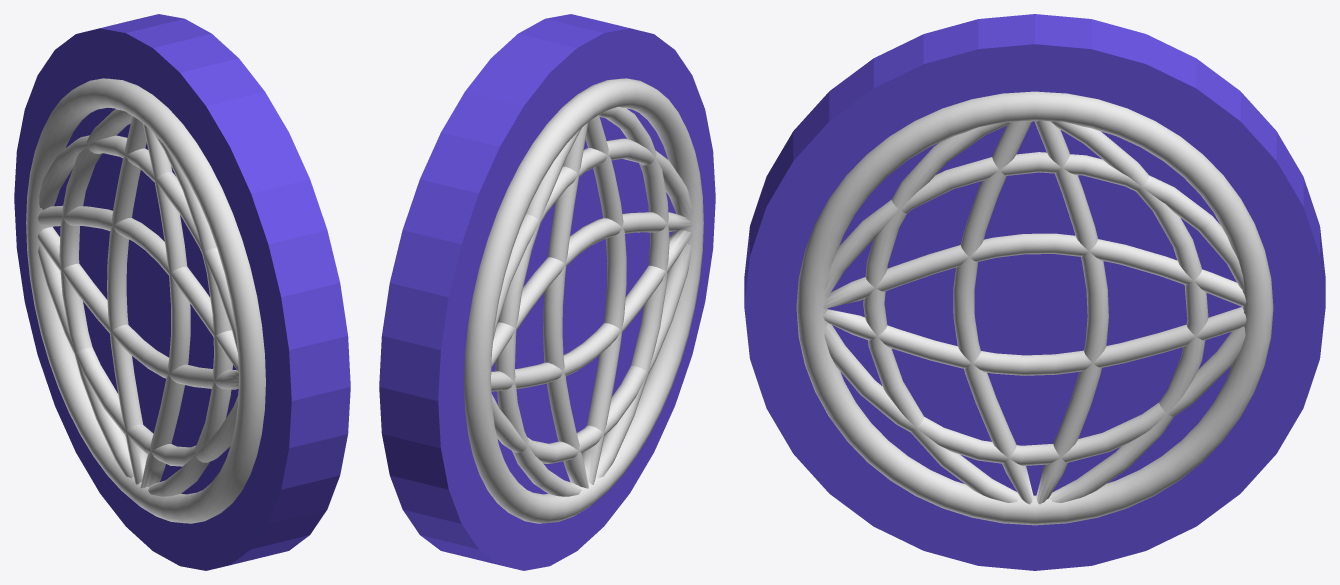
Rendered from icon_web.glb.
The picture shows the model from 3 angles, left to right: view 1: azimuth 30°, elevation 25°; view 2: azimuth 150°, elevation 25°; view 3: azimuth 270°, elevation 25°; orthographic projection. The views are drawn at different scales.
Visible parts, largest first — view 1: Cylinder, BezierCurve.001; view 2: Cylinder, BezierCurve.001; view 3: Cylinder, BezierCurve.002.
Boxes of the visible parts, x1,y1,x2,y2 form: Cylinder: [14, 14, 350, 570]; BezierCurve.001: [26, 78, 265, 523]; Cylinder: [379, 14, 715, 570]; BezierCurve.001: [464, 78, 703, 523]; Cylinder: [744, 14, 1325, 570]; BezierCurve.002: [796, 91, 1273, 525].
Bounding box in the file's own units: 0.0937 × 0.496 × 0.496.
